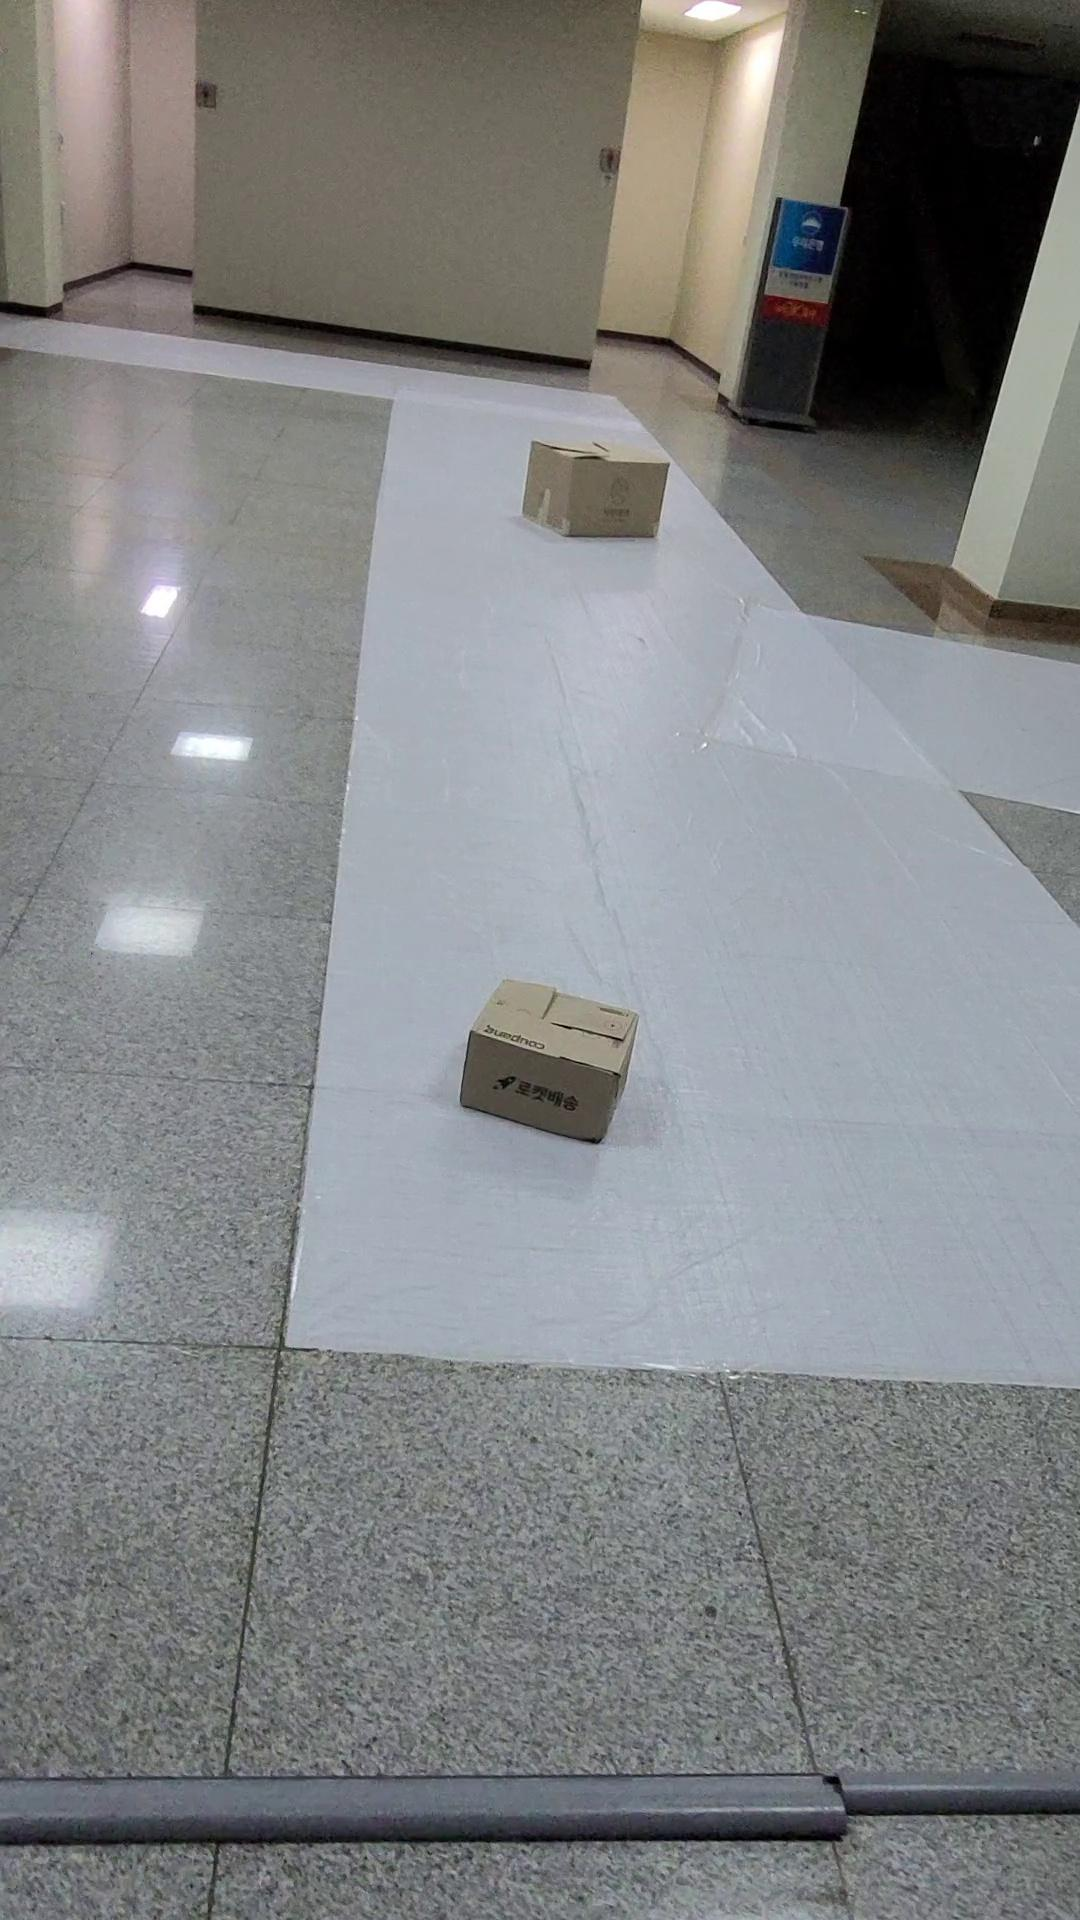Box: (443, 948, 665, 1175), (481, 371, 690, 589)
